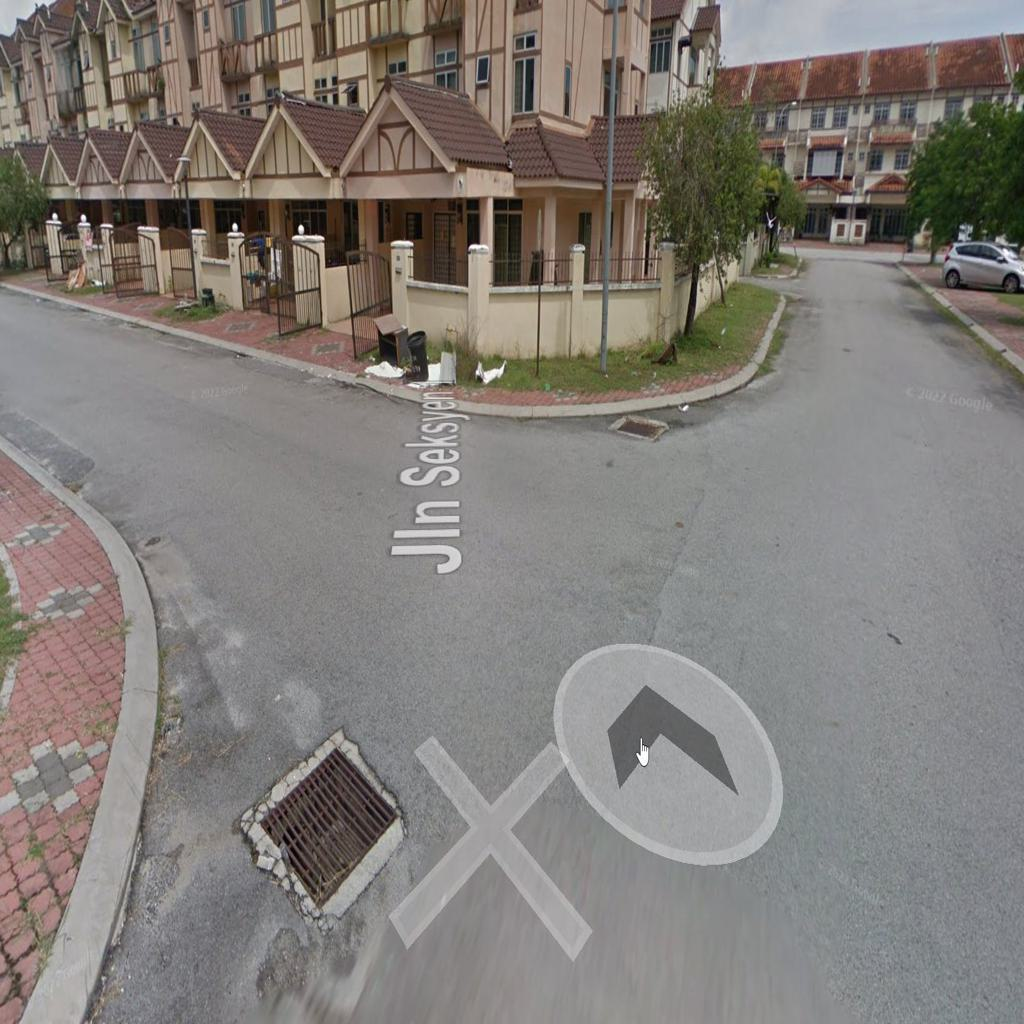Junction: (15, 359, 776, 841)
